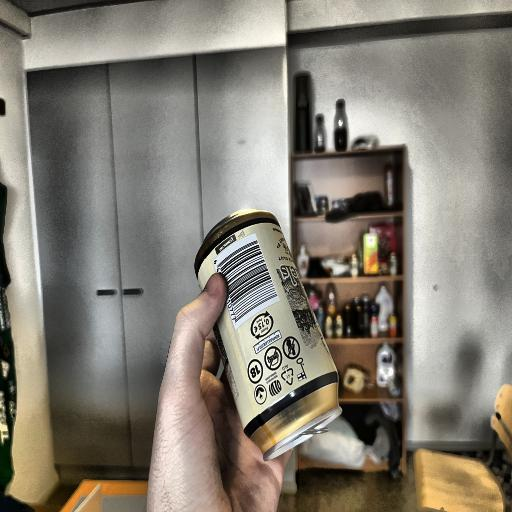sandels: (194, 205, 351, 446)
